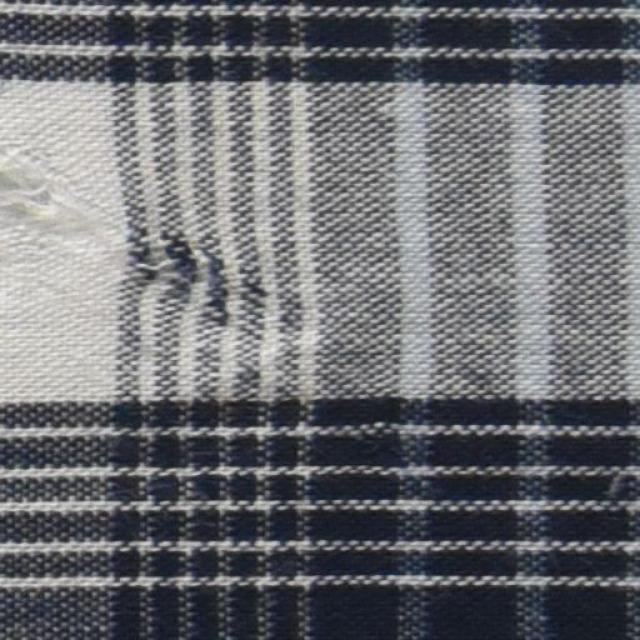Snag: (125, 220, 244, 321), (0, 158, 87, 255)
